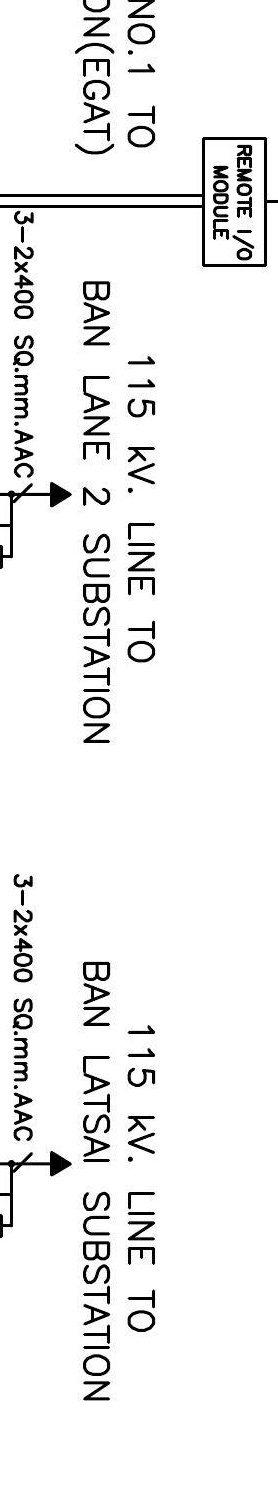remote_io_module: (201, 136, 267, 267)
